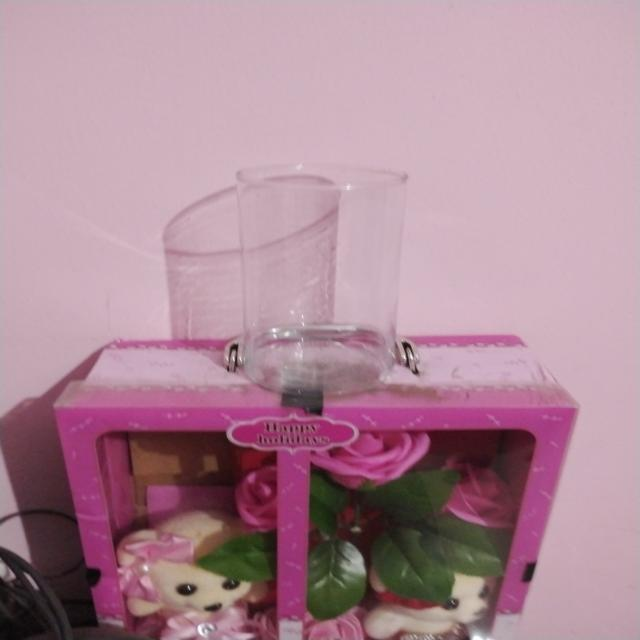Glass: (233, 157, 412, 400)
